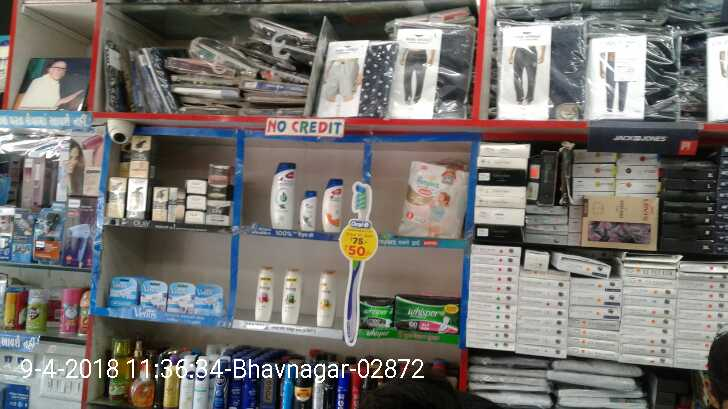venus: (108, 274, 140, 307), (194, 285, 225, 313), (169, 281, 194, 313), (139, 279, 167, 307)
